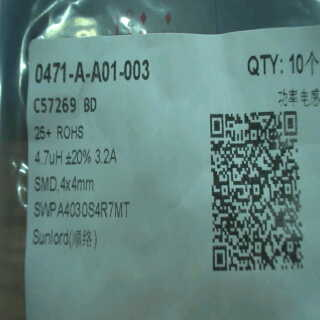4.7uH: (33, 145, 65, 168)
